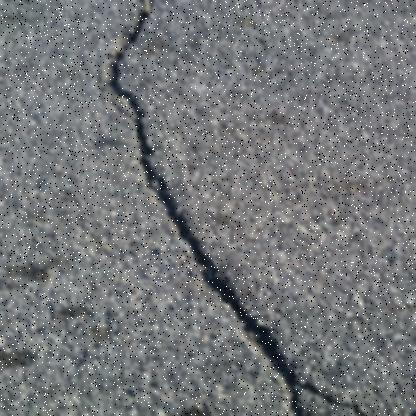Cracks: (98, 0, 382, 415)
